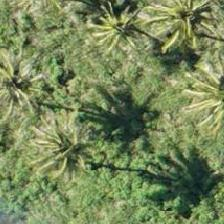coconut_tree: (6, 101, 96, 191), (73, 0, 163, 64), (0, 36, 55, 126), (146, 0, 223, 57)
